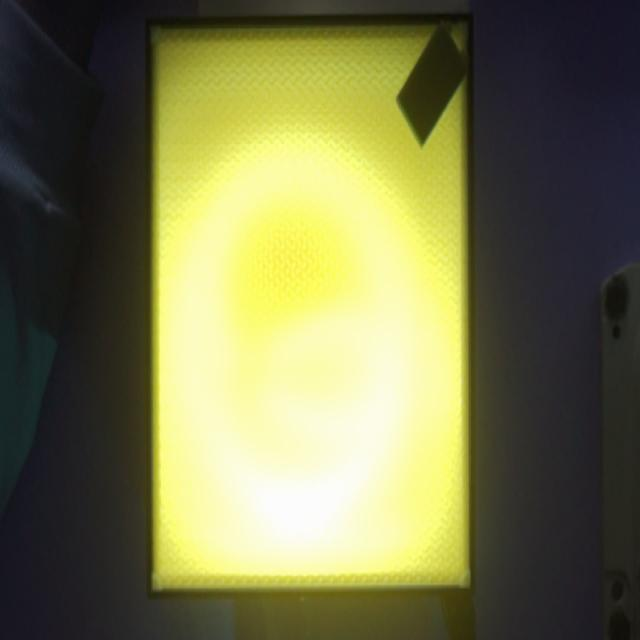bateria: (396, 19, 470, 148)
mesa: (146, 13, 474, 600)
